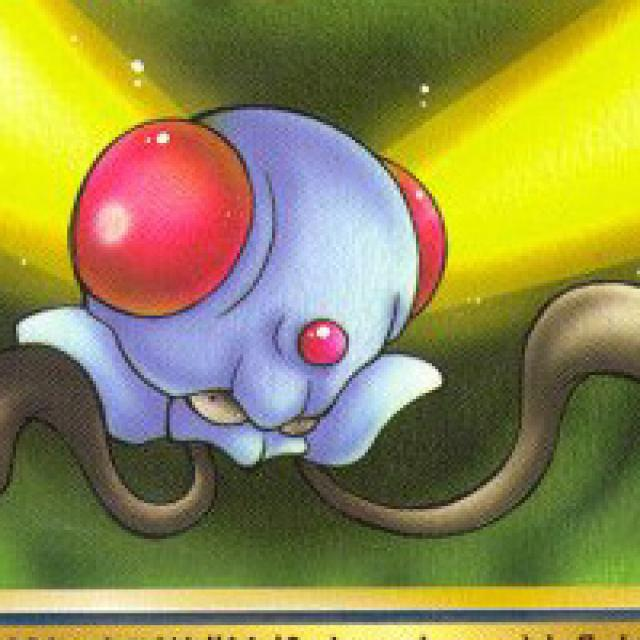Tentacool: (47, 102, 468, 551)
